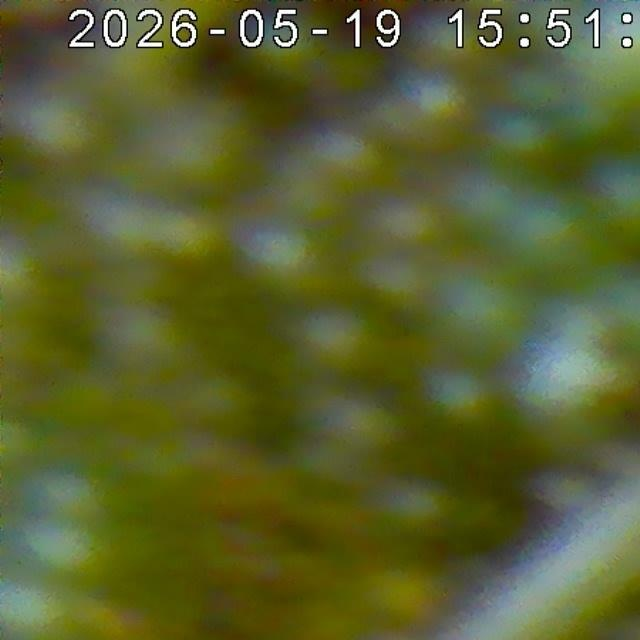SeaGrape: (502, 320, 626, 452), (136, 79, 261, 206), (420, 247, 539, 368), (379, 60, 482, 160), (236, 210, 340, 309), (285, 294, 390, 391), (7, 77, 111, 170), (504, 199, 611, 289), (20, 506, 124, 596), (439, 160, 529, 248), (366, 470, 458, 554), (418, 356, 506, 443), (178, 361, 268, 446), (368, 181, 454, 262), (355, 240, 441, 321), (327, 385, 411, 465), (483, 102, 563, 175), (0, 572, 84, 640)
